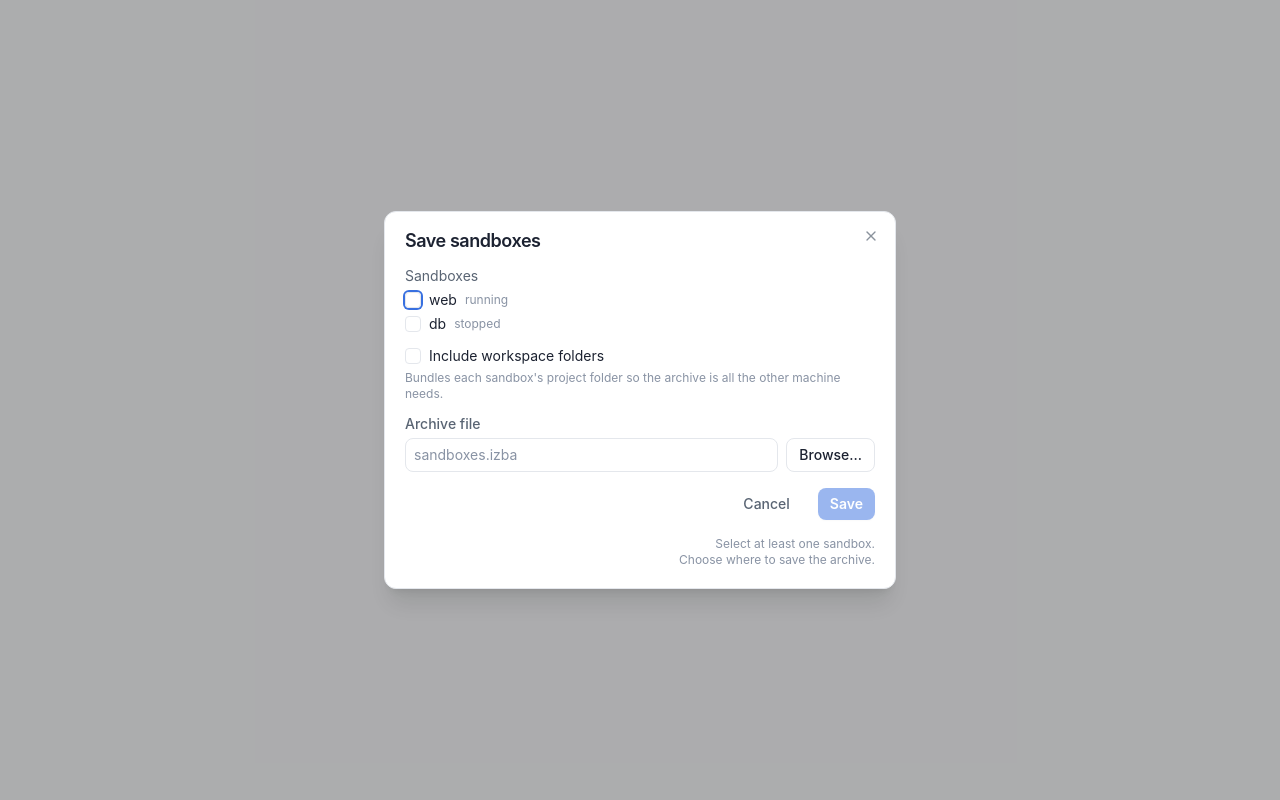
Test: SaveArchive › keeps Save disabled until a sandbox and a file are chosen
This screenshot has width=1280, height=800.
Expected: the button "Save" is disabled, [818,488,875,520]
Expected: the text "Select at least one sandbox." is shown, [715,536,875,551]
Click the checkbox named "Save db" at [413, 324], box [405,316,421,332]
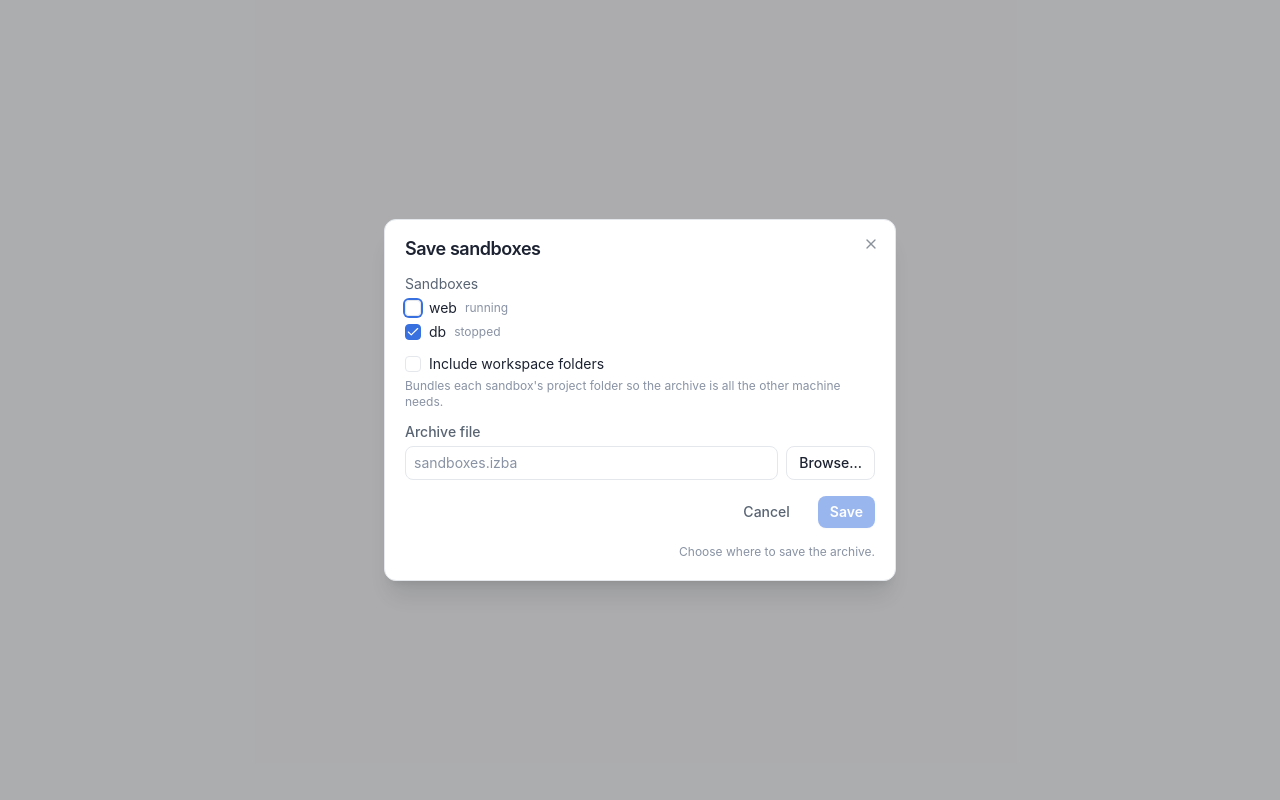
Expected: the button "Save" is disabled, [818,496,875,528]
Type "/backups/db.izba" into the field labelled "Archive file" at [592, 463], box [405,446,778,480]
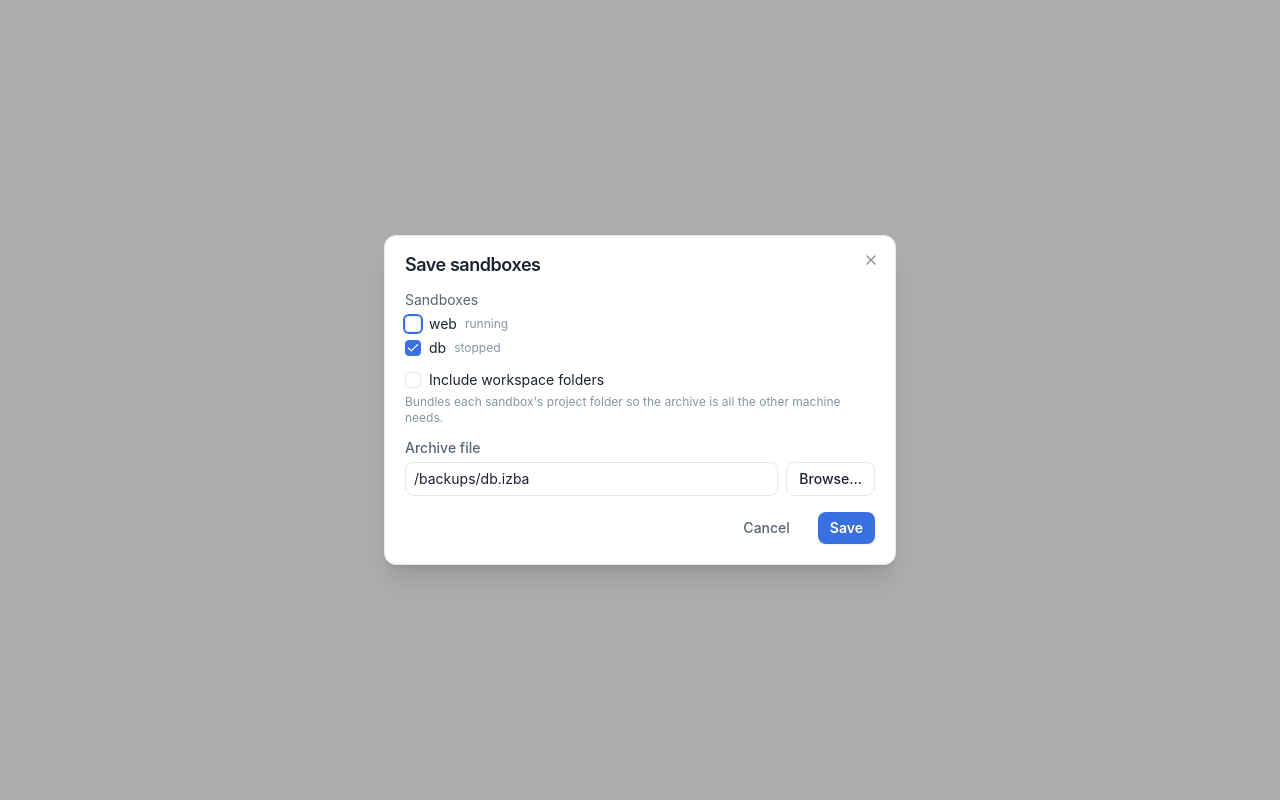
Expected: the button "Save" is enabled, [818,512,875,544]
